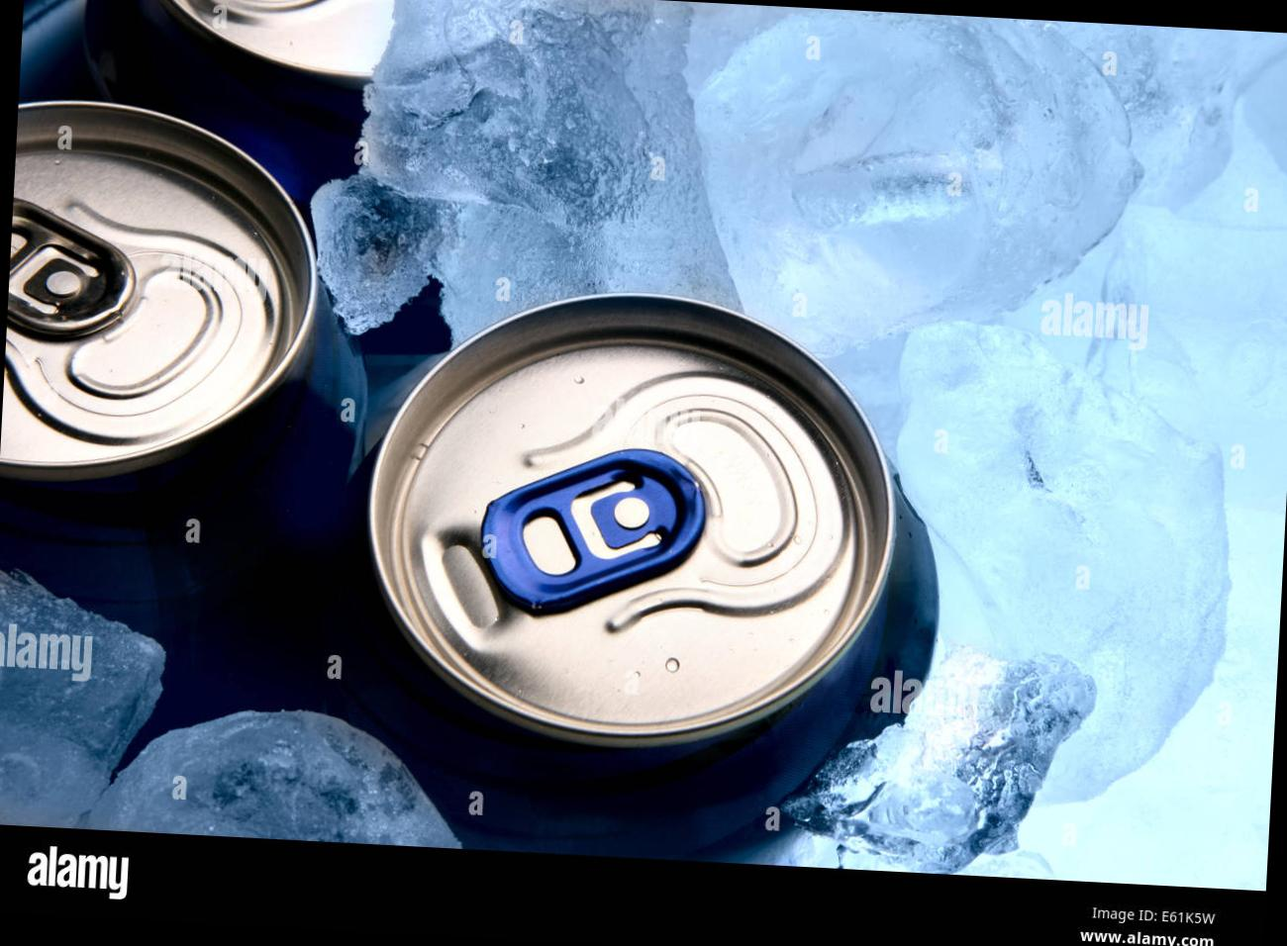metal: (311, 259, 1044, 909), (0, 76, 398, 705)
